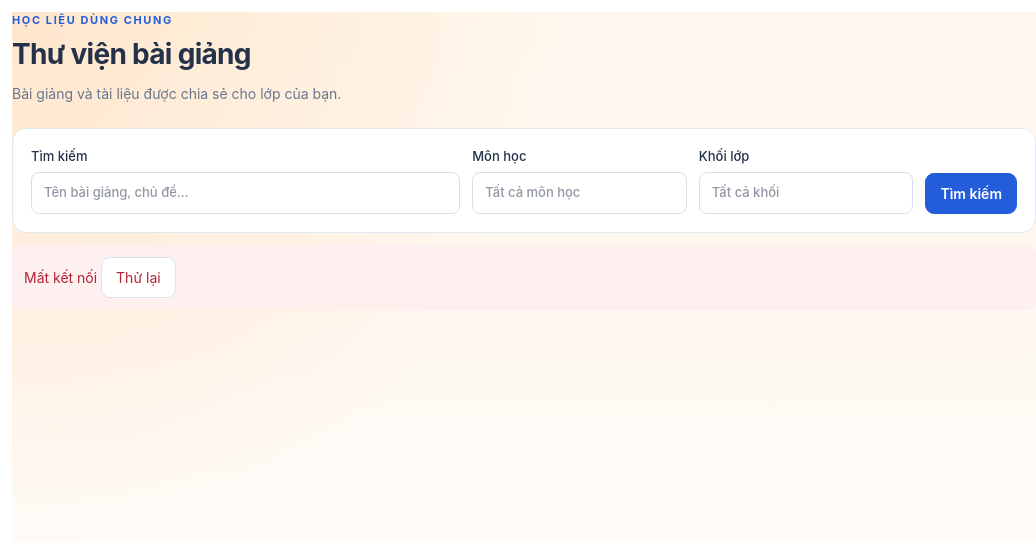
Test case: shows API failures and recovers through retry
The image size is (1036, 542).
Expected: the message shows "Mất kết nối", [24, 268, 97, 286]
Click the button "Thử lại": (138, 277) [101, 256, 176, 298]
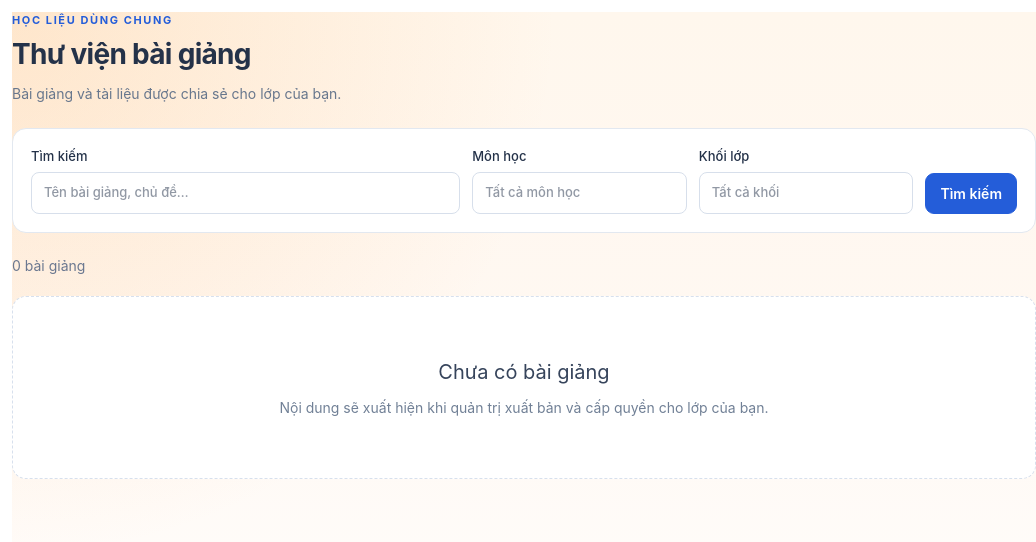
Expected: the heading "Chưa có bài giảng" is shown, [438, 360, 610, 384]
